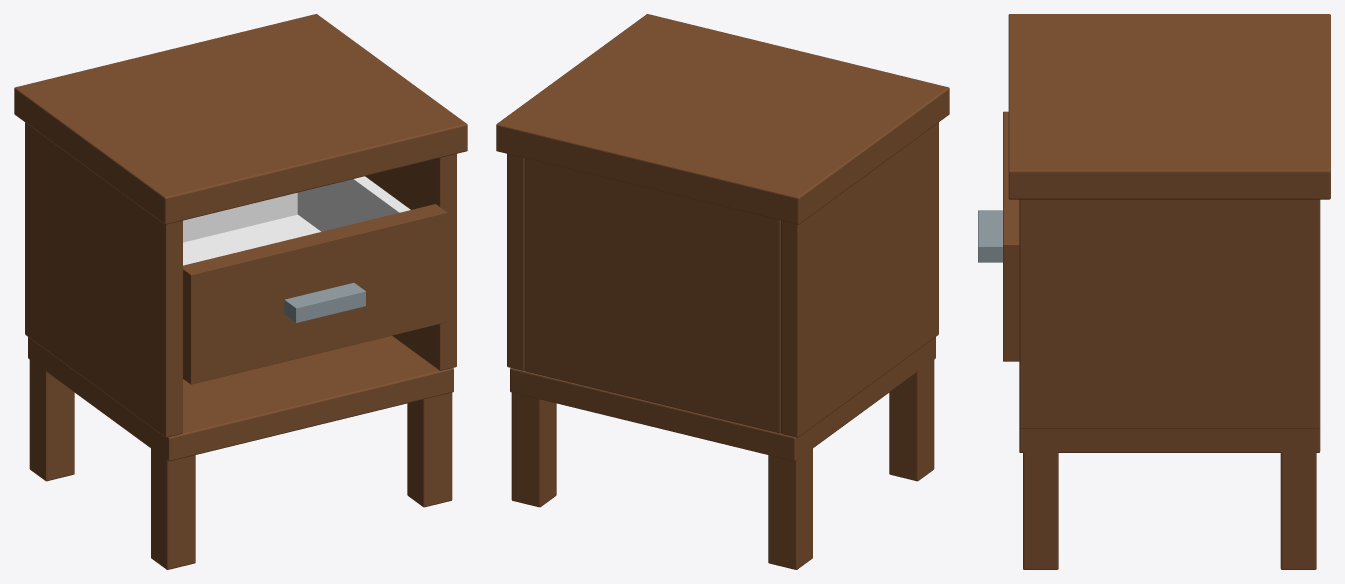
The model's file is bedside-table.glb.
3 renders of one model, left to right at view 1: azimuth 30°, elevation 25°; view 2: azimuth 150°, elevation 25°; view 3: azimuth 270°, elevation 25°, orthographic. The views are drawn at different scales.
Visible parts, largest first — view 1: Top, Side, Drawer_Front, Bottom, Side.001, Leg, Leg.002, Leg.001, Drawer_Side.001, Drawer_Floor, Drawer_Back, Pull; view 2: Top, Back, Side, Bottom, Leg.001, Leg.003, Leg, Side.001; view 3: Side.001, Top, Bottom, Leg.003, Leg.002, Drawer_Front, Pull.
Boxes of the visible parts, box(x1,y1,x2,y2) form: Top: box(14, 14, 467, 224); Side: box(25, 122, 182, 437); Drawer_Front: box(183, 204, 447, 384); Bottom: box(28, 335, 453, 461); Side.001: box(365, 154, 456, 370); Leg: box(151, 438, 195, 569); Leg.002: box(407, 392, 452, 507); Leg.001: box(29, 356, 74, 481); Drawer_Side.001: box(297, 176, 410, 231); Drawer_Floor: box(183, 214, 320, 265); Drawer_Back: box(183, 192, 297, 242); Pull: box(284, 282, 365, 323); Top: box(496, 14, 949, 224); Back: box(524, 158, 780, 433); Side: box(781, 122, 938, 437); Bottom: box(510, 337, 935, 461); Leg.001: box(768, 438, 812, 569); Leg.003: box(511, 392, 556, 507); Leg: box(889, 359, 934, 481); Side.001: box(507, 154, 524, 370); Side.001: box(1019, 199, 1320, 428); Top: box(1008, 14, 1330, 199); Bottom: box(1019, 427, 1320, 452); Leg.003: box(1280, 442, 1316, 569); Leg.002: box(1023, 442, 1058, 569); Drawer_Front: box(1003, 111, 1019, 361); Pull: box(978, 210, 1002, 262).
Bounding box in the file's own units: 0.52 × 0.6225 × 0.4925.
